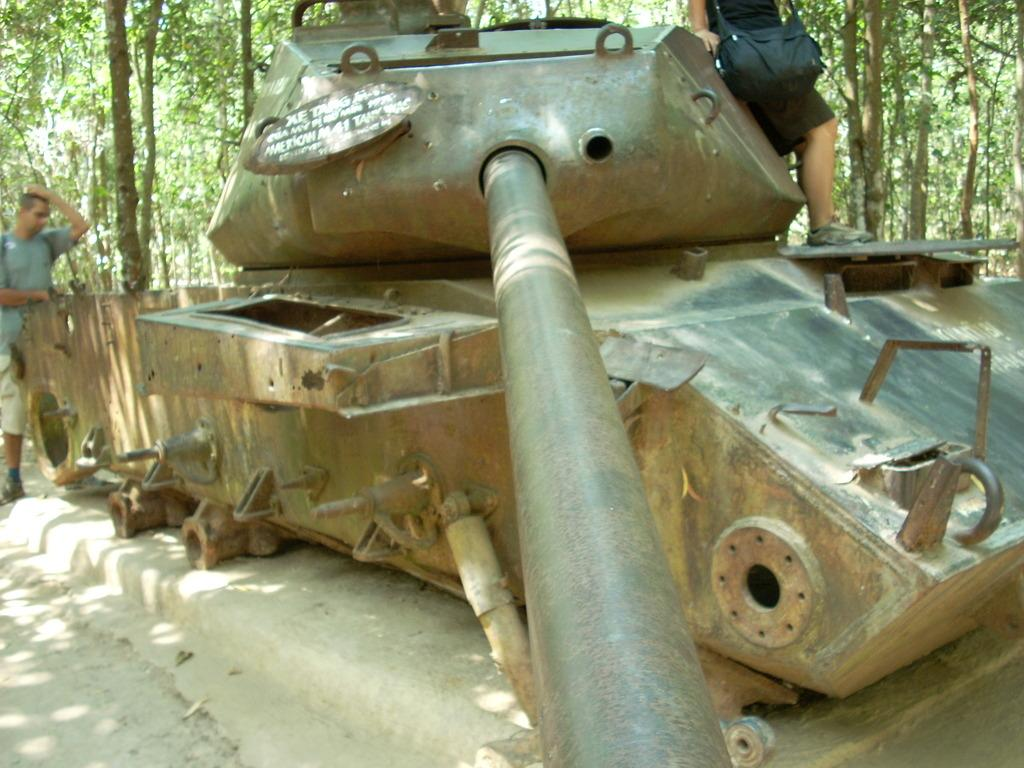Tank: (12, 0, 1023, 767)
